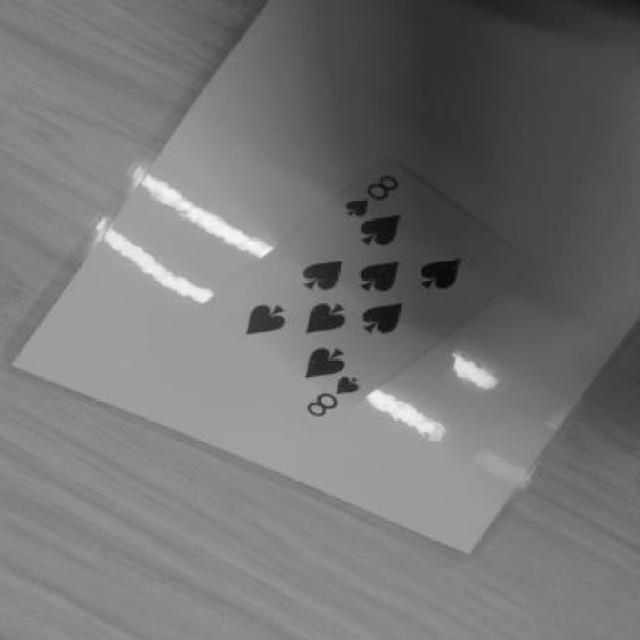8S: (295, 366, 374, 420), (336, 172, 406, 220)
